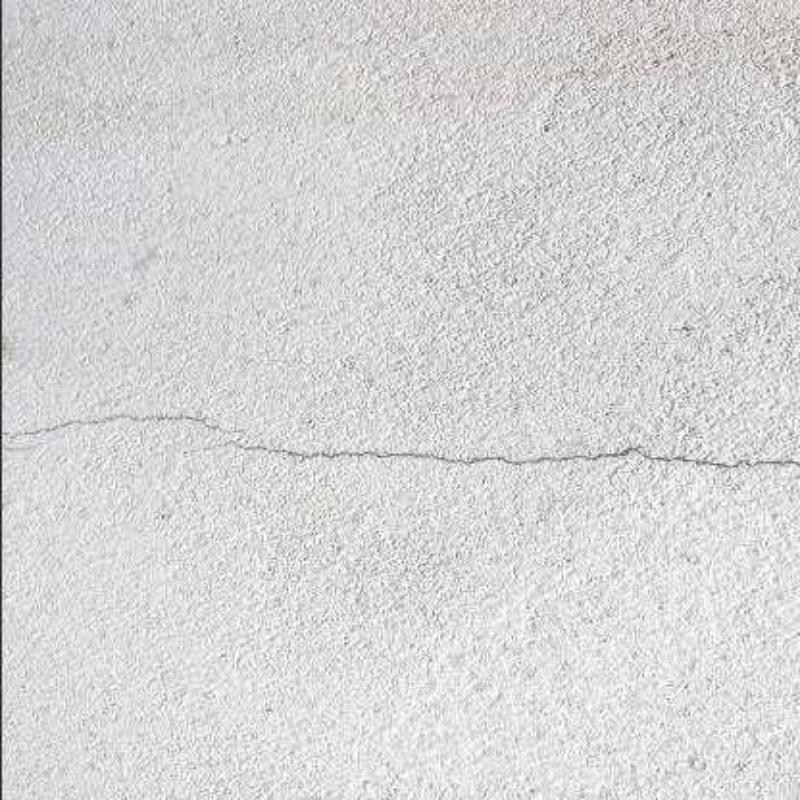crack: (223, 440, 800, 473), (10, 410, 240, 438), (0, 441, 41, 454)
